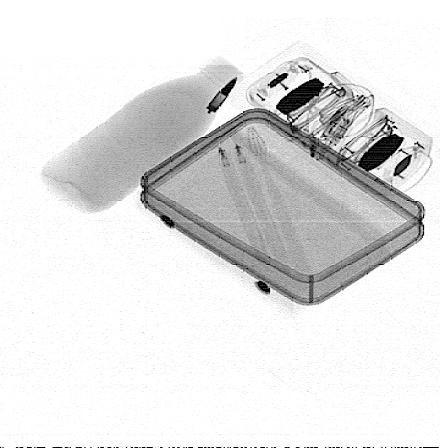Bullet: (206, 75, 238, 112)
